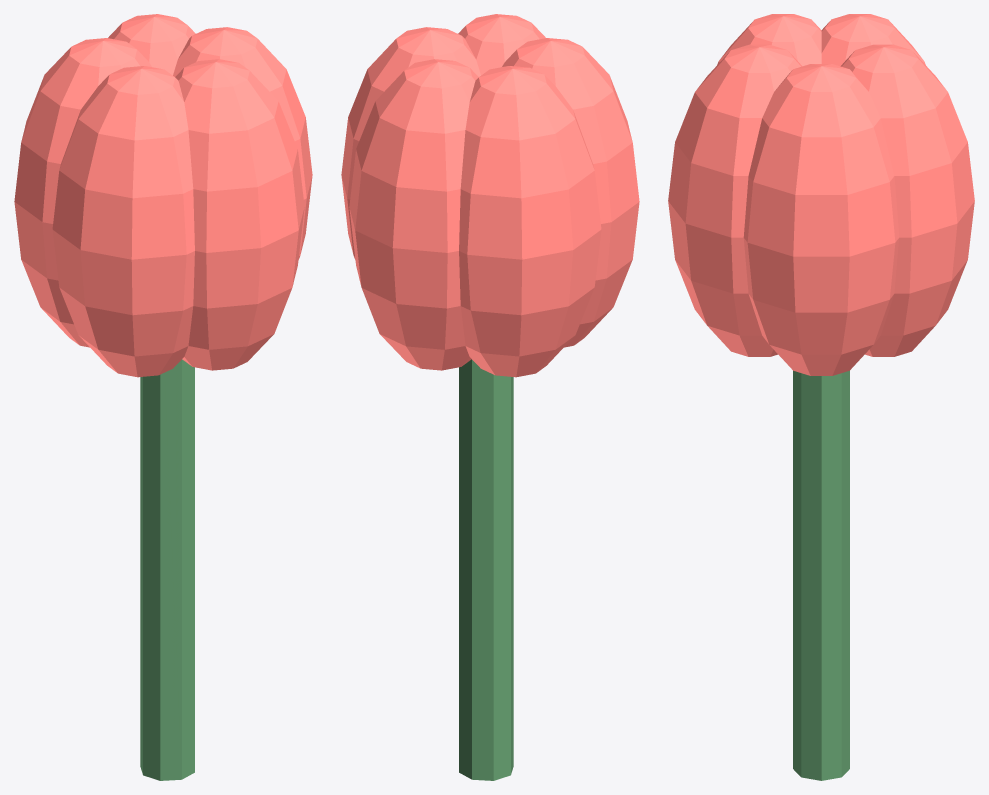
The model's file is s1_quality_tulip.glb.
3 renders of one model, left to right at view 1: azimuth 30°, elevation 25°; view 2: azimuth 150°, elevation 25°; view 3: azimuth 270°, elevation 25°, orthographic.
Visible parts, largest first — view 1: s1_quality_tulip; view 2: s1_quality_tulip; view 3: s1_quality_tulip.
Part boxes in pixels (box(x1,y1,x2,y2)): s1_quality_tulip: box(14, 14, 312, 780); s1_quality_tulip: box(341, 14, 639, 780); s1_quality_tulip: box(668, 14, 974, 780).
Size of the model in its own units: 0.3578 by 0.988 by 0.3762.
